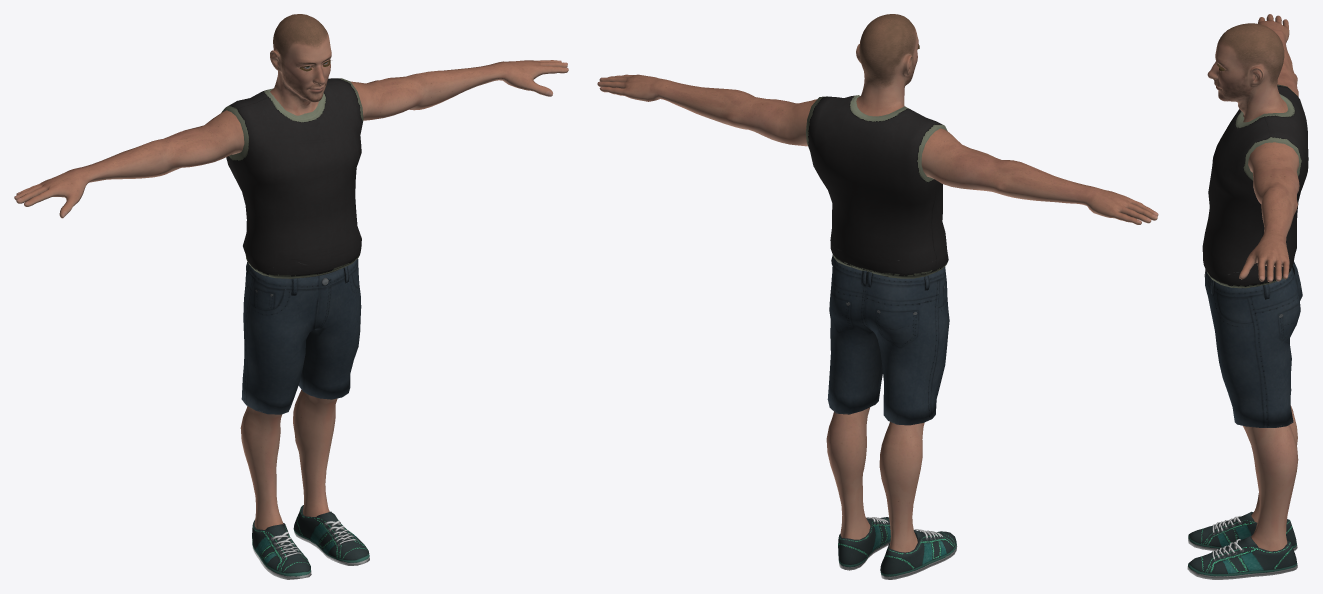
Rendered from version1.obj.
3 renders of one model, left to right at view 1: azimuth 30°, elevation 25°; view 2: azimuth 150°, elevation 25°; view 3: azimuth 270°, elevation 25°, orthographic.
Parts seen in each view (by area): view 1: Body, Tops, Bottoms, Shoes; view 2: Body, Tops, Bottoms, Shoes; view 3: Body, Bottoms, Tops, Shoes.
Part boxes in pixels (bbox=[...]): Body: bbox=[14, 14, 568, 529]; Tops: bbox=[221, 78, 363, 278]; Bottoms: bbox=[241, 259, 361, 414]; Shoes: bbox=[252, 505, 369, 579]; Body: bbox=[597, 14, 1158, 552]; Tops: bbox=[805, 95, 948, 278]; Bottoms: bbox=[827, 255, 949, 425]; Shoes: bbox=[838, 517, 957, 579]; Body: bbox=[1207, 14, 1299, 551]; Bottoms: bbox=[1204, 261, 1302, 427]; Tops: bbox=[1202, 84, 1308, 288]; Shoes: bbox=[1187, 511, 1297, 579].
Size of the model in its own units: 194 by 180 by 37.05.
4 materials, 4 textured.
